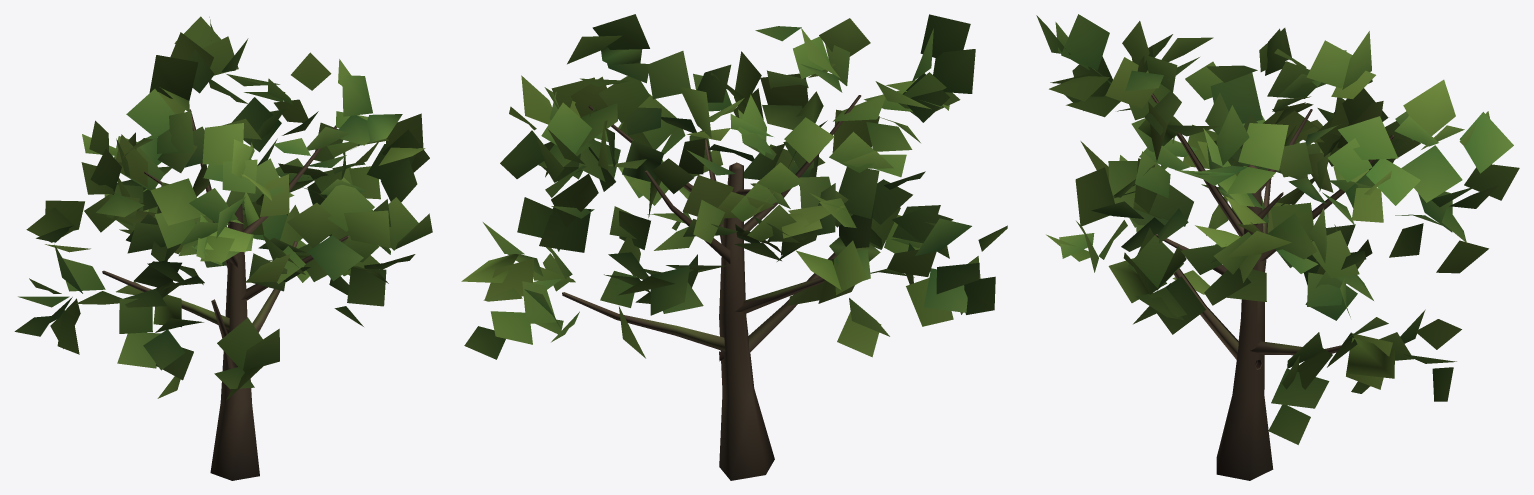
The model's file is oak-a.lod2.glb.
The picture shows the model from 3 angles, left to right: view 1: azimuth 30°, elevation 25°; view 2: azimuth 150°, elevation 25°; view 3: azimuth 270°, elevation 25°; orthographic projection. The views are drawn at different scales.
Bounding box in the file's own units: 9.96 × 8.79 × 9.01.
